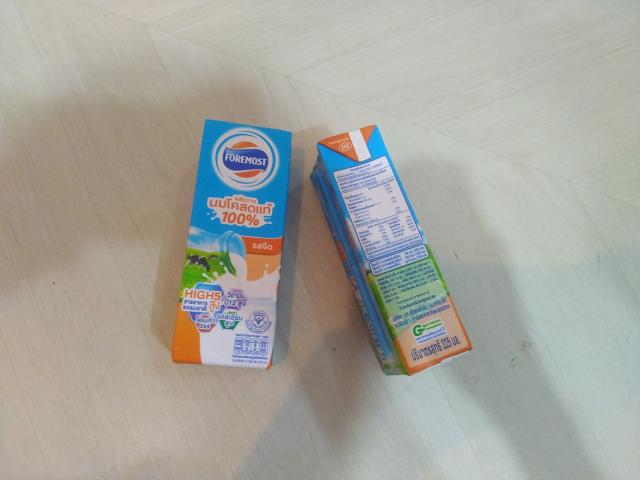drink_box: (296, 113, 499, 402), (152, 111, 309, 384)
